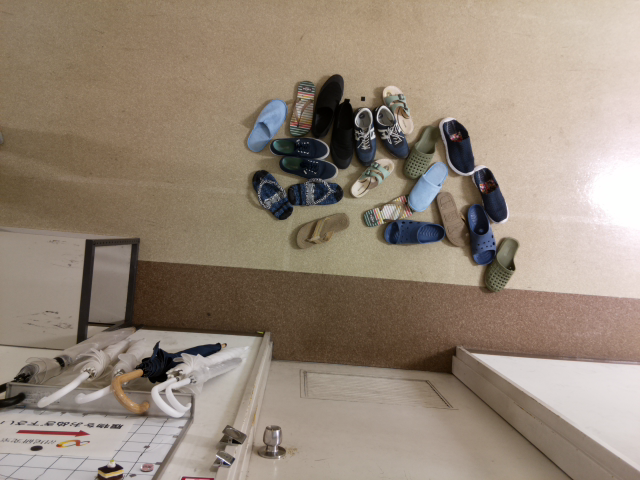Copy of Copy of Copy of Copy of Copy of Copy of Copy of Copy of Copy of Copy of: (284, 209, 355, 253), (244, 163, 292, 228), (309, 61, 346, 143), (324, 93, 361, 175), (354, 188, 425, 229), (344, 152, 398, 199), (378, 77, 419, 138), (372, 102, 413, 162), (346, 102, 379, 174), (280, 176, 354, 208), (274, 152, 341, 184), (264, 132, 332, 163)
Copy of Copy of Copy of Copy of Copy of Copy of Copy of Copy of Copy of shoe: (375, 212, 447, 253)
Copy of Copy of Copy of Copy of Copy of Copy of Copy of Copy of shoe: (397, 118, 444, 179)
Copy of Copy of Copy of Copy of Copy of Copy of Copy of shoe: (405, 157, 452, 218)
Copy of Copy of Copy of Copy of Copy of Copy of shoe: (431, 188, 473, 254)
Copy of Copy of Copy of Copy of Copy of Copy of umbrella: (70, 324, 164, 411)
Copy of Copy of Copy of Copy of Copy of shoe: (459, 201, 501, 267)
Copy of Copy of Copy of Copy of Copy of umbrella: (1, 322, 136, 411)
Copy of Copy of Copy of Copy of shoe: (481, 233, 523, 299)
Copy of Copy of Copy of Copy of umbrella: (30, 322, 148, 412)
Copy of Copy of Copy of shoe: (468, 158, 515, 225)
Copy of Copy of Copy of umbrella: (68, 324, 162, 413)
Copy of Copy of shoe: (433, 108, 480, 176)
Copy of Copy of umbrella: (102, 338, 228, 416)
Copy of shoe: (282, 72, 319, 140)
Copy of umbrella: (158, 345, 261, 418)
shoe: (241, 93, 289, 160)
umbrella: (144, 340, 258, 422)
